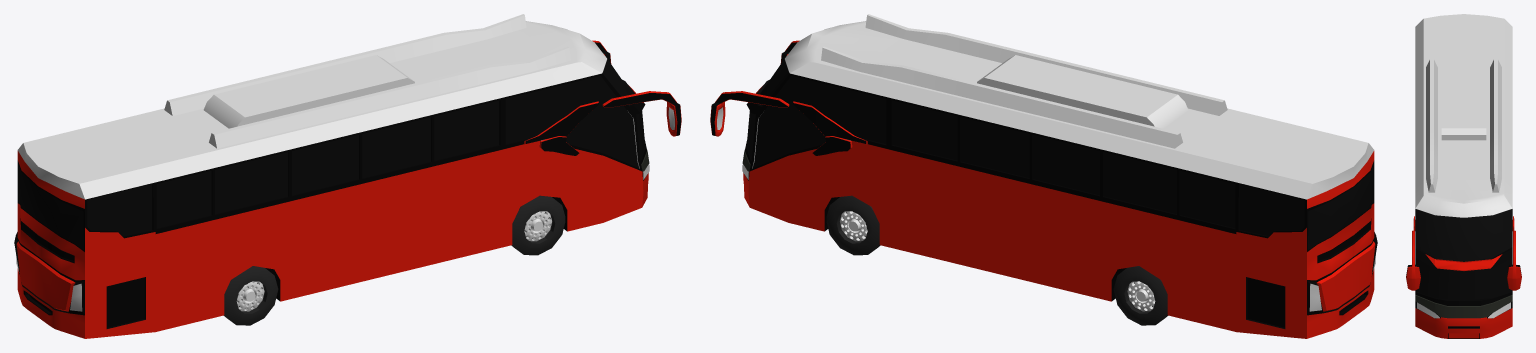
File: workwork.gltf
The picture shows the model from 3 angles, left to right: view 1: azimuth 30°, elevation 25°; view 2: azimuth 150°, elevation 25°; view 3: azimuth 270°, elevation 25°; orthographic projection. The views are drawn at different scales.
Visible parts, largest first — view 1: body_bus; view 2: body_bus; view 3: body_bus.
Part boxes in pixels (x1=…): body_bus: x1=14, y1=14, x2=681, y2=338; body_bus: x1=710, y1=14, x2=1377, y2=338; body_bus: x1=1406, y1=14, x2=1521, y2=338.
Size of the model in its own units: 31.33 by 9.57 by 7.19.
